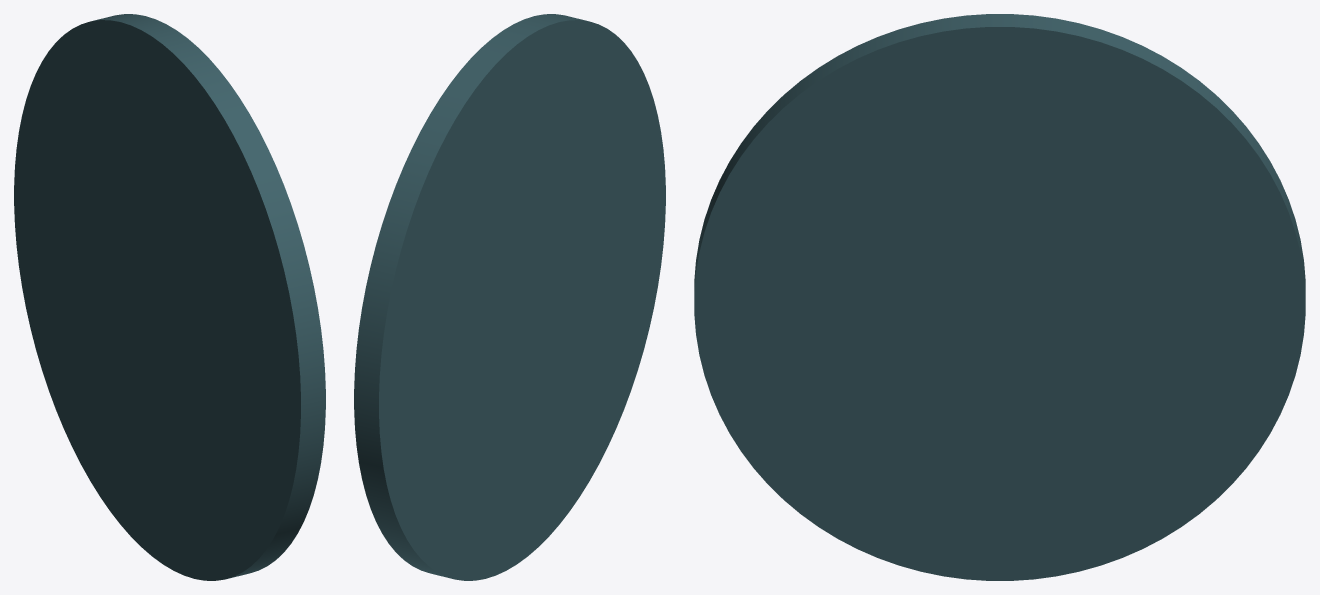
File: SM_RedDot_Glass.fbx
3 views of the same model, side by side, from view 1: azimuth 30°, elevation 25°; view 2: azimuth 150°, elevation 25°; view 3: azimuth 270°, elevation 25° (orthographic). The views are drawn at different scales.
Visible parts, largest first — view 1: SM_RedDot_Glass; view 2: SM_RedDot_Glass; view 3: SM_RedDot_Glass.
Boxes of the visible parts, left/top/right/bottom form: SM_RedDot_Glass: left=14, top=14, right=325, bottom=580; SM_RedDot_Glass: left=354, top=14, right=665, bottom=580; SM_RedDot_Glass: left=694, top=14, right=1305, bottom=580.
Size of the model in its own units: 0.0188 by 0.000943 by 0.0188.
